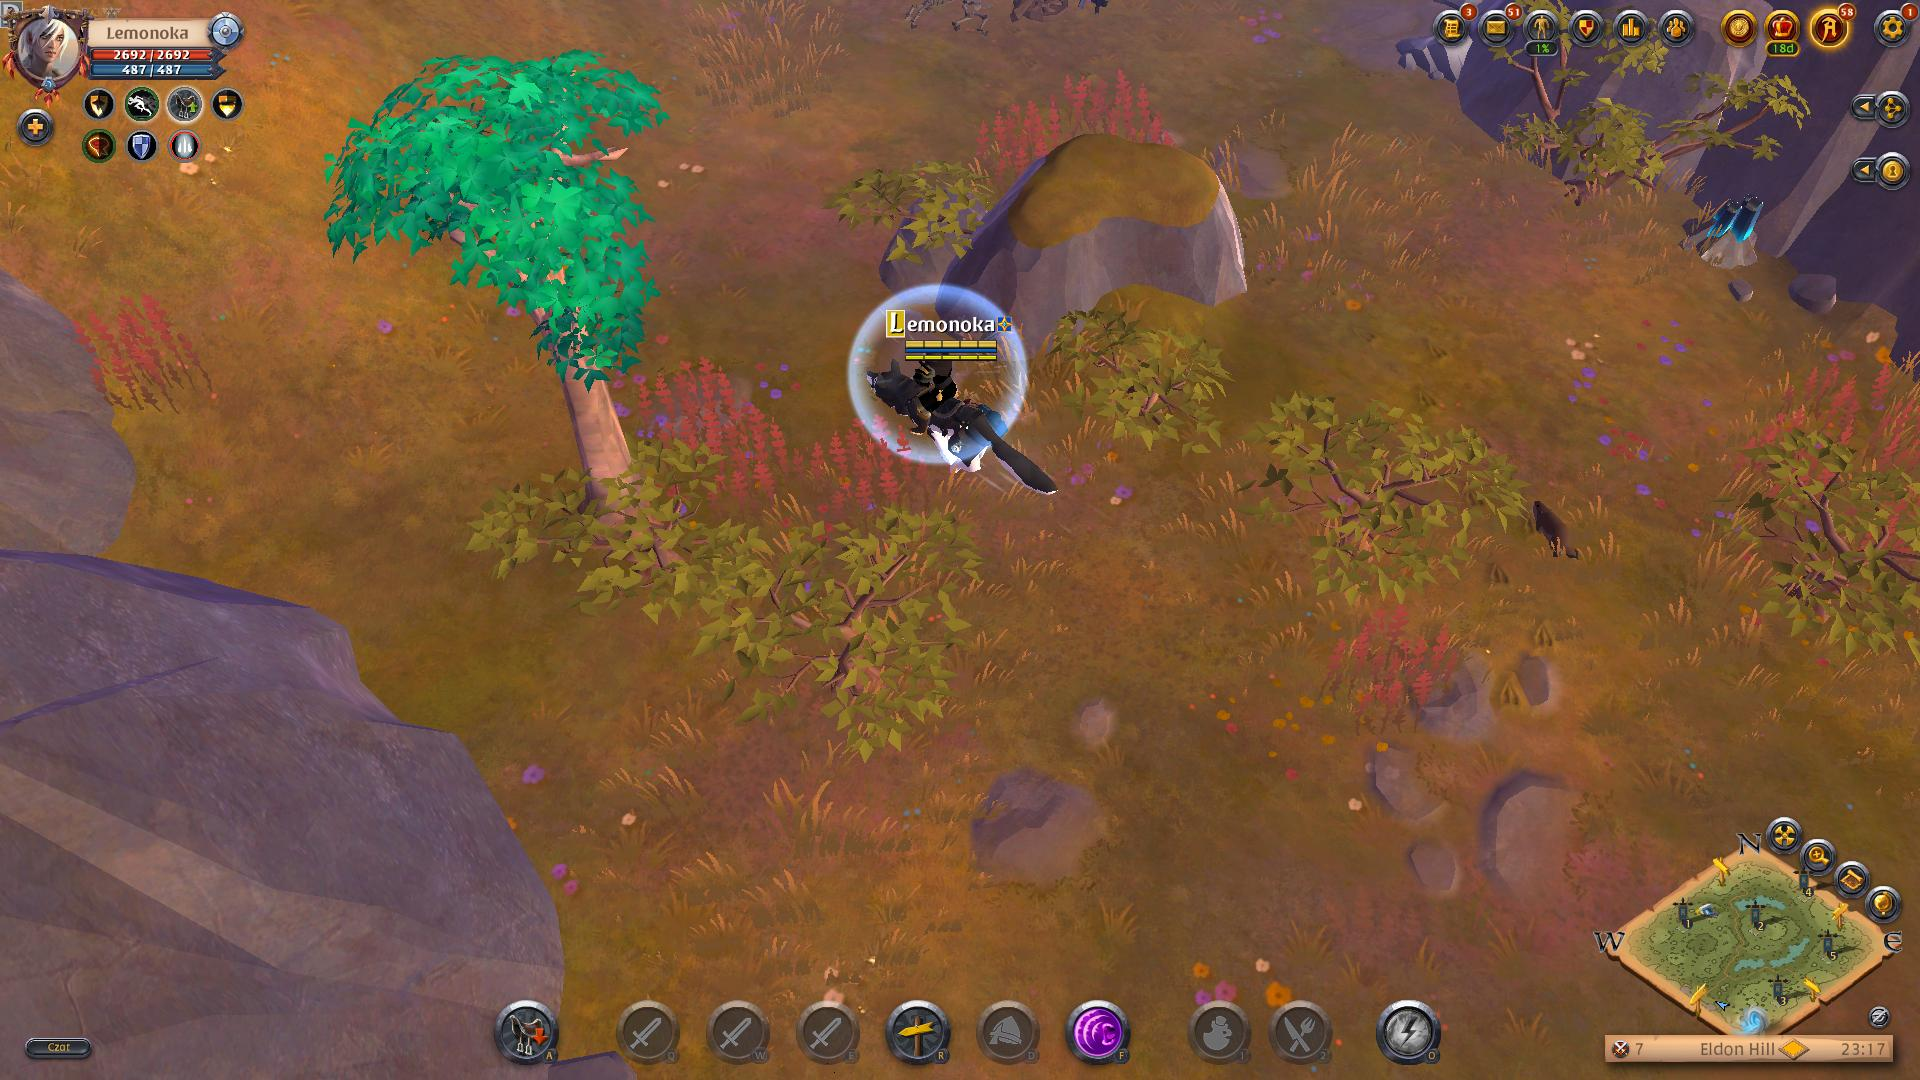ore tier 4: (1684, 183, 1764, 273)
wood tier 3: (316, 49, 663, 396)
